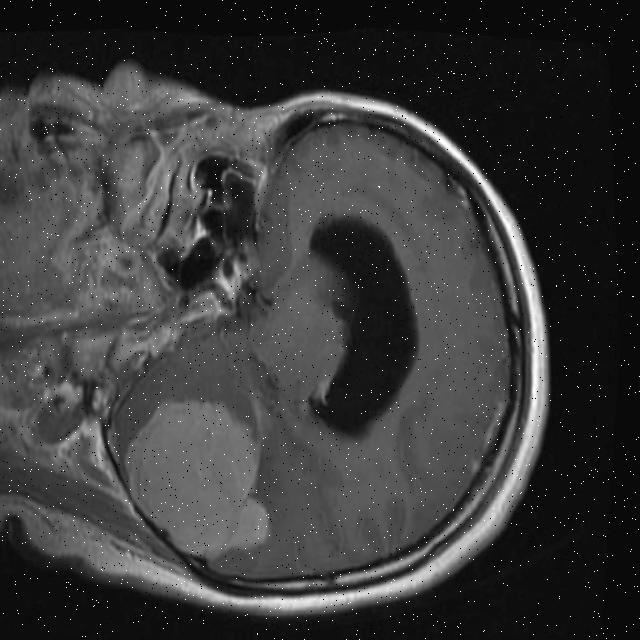Meningioma: (110, 384, 282, 572)
